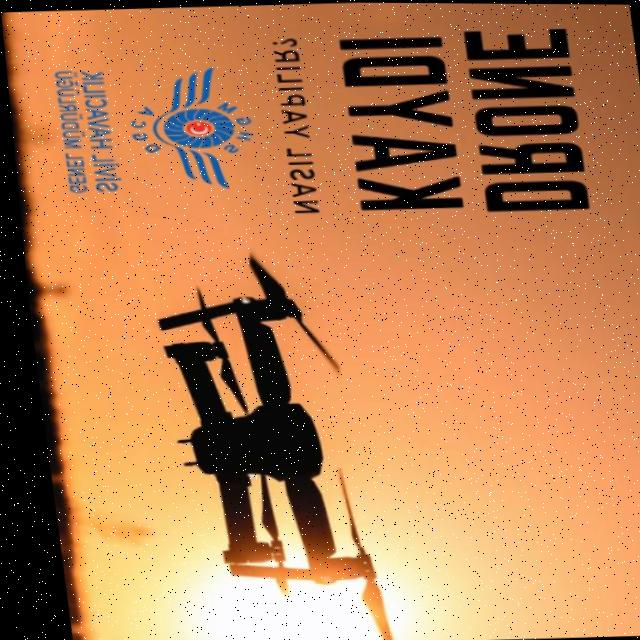drones: (89, 255, 431, 640)
